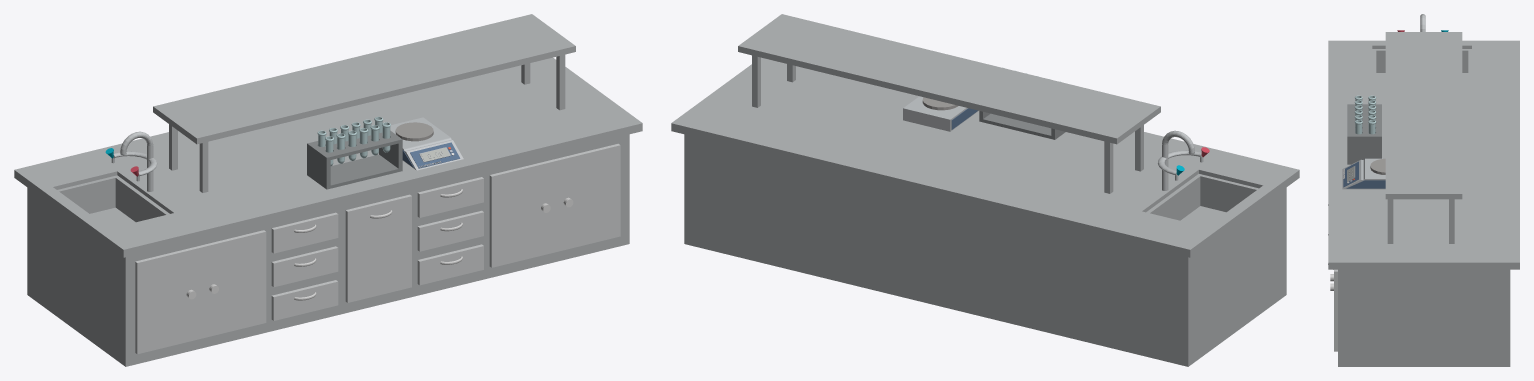
The model's file is Laboratorio1.glb.
3 renders of one model, left to right at view 1: azimuth 30°, elevation 25°; view 2: azimuth 150°, elevation 25°; view 3: azimuth 270°, elevation 25°, orthographic. The views are drawn at different scales.
Visible parts, largest first — view 1: Mesh_Mesh_head_geo.001_lambert2SG.001; view 2: Mesh_Mesh_head_geo.001_lambert2SG.001; view 3: Mesh_Mesh_head_geo.001_lambert2SG.001.
Boxes of the visible parts, bbox=[...] form: Mesh_Mesh_head_geo.001_lambert2SG.001: bbox=[14, 14, 642, 366]; Mesh_Mesh_head_geo.001_lambert2SG.001: bbox=[671, 14, 1299, 366]; Mesh_Mesh_head_geo.001_lambert2SG.001: bbox=[1328, 14, 1519, 366].
Bounding box in the file's own units: 137 × 46.53 × 50.07.
